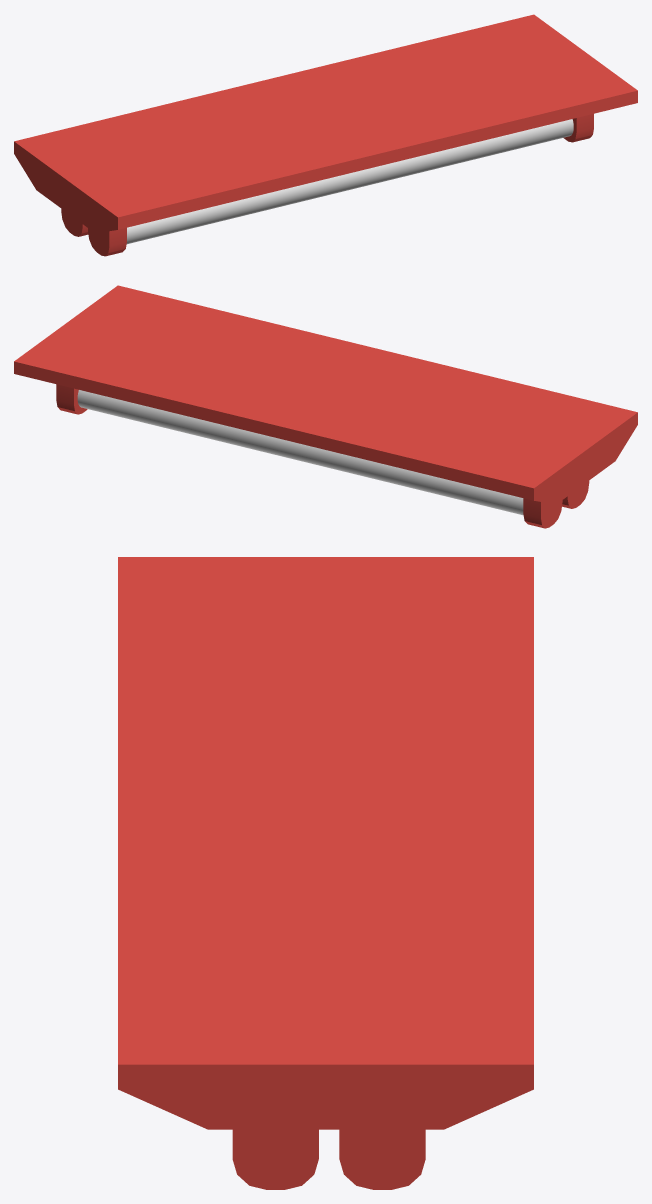
Rendered from Light_Tube.fbx.
The picture shows the model from 3 angles, top to bottom: view 1: azimuth 30°, elevation 25°; view 2: azimuth 150°, elevation 25°; view 3: azimuth 270°, elevation 25°; orthographic projection. The views are drawn at different scales.
Parts seen in each view (by area): view 1: Cube.033, Light_Bulb_Tube.001, Socket.001, Socket; view 2: Cube.033, Light_Bulb_Tube, Socket, Socket.001; view 3: Cube.033, Socket, Socket.001.
Part boxes in pixels (x1=…): Cube.033: x1=14, y1=14, x2=637, y2=233; Light_Bulb_Tube.001: x1=126, y1=119, x2=573, y2=244; Socket.001: x1=88, y1=114, x2=593, y2=256; Socket: x1=61, y1=209, x2=88, y2=236; Cube.033: x1=14, y1=285, x2=637, y2=504; Light_Bulb_Tube: x1=77, y1=390, x2=523, y2=515; Socket: x1=56, y1=384, x2=562, y2=528; Socket.001: x1=562, y1=481, x2=589, y2=508; Cube.033: x1=118, y1=557, x2=533, y2=1129; Socket: x1=339, y1=1129, x2=425, y2=1189; Socket.001: x1=232, y1=1129, x2=318, y2=1189.
Bounding box in the file's own units: 131 × 16.85 × 45.32.
